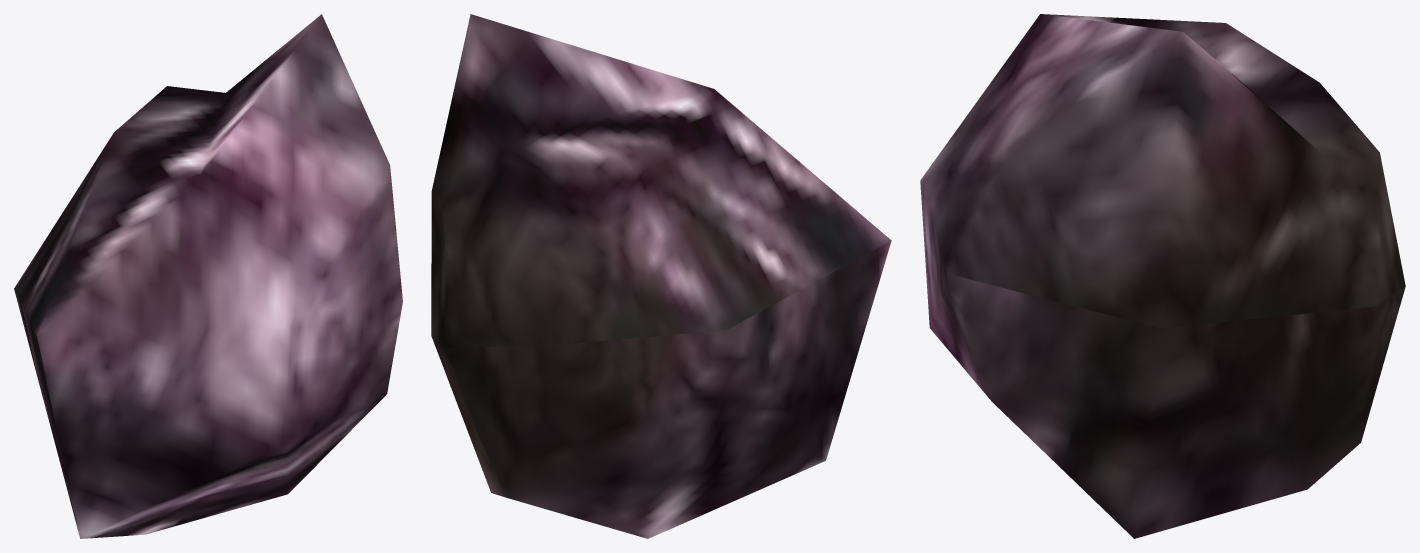
Rendered from condra_7_shoulder_right.glb.
3 views of the same model, side by side, from view 1: azimuth 30°, elevation 25°; view 2: azimuth 150°, elevation 25°; view 3: azimuth 270°, elevation 25° (orthographic). The views are drawn at different scales.
Visible parts, largest first — view 1: model_condra_7_shoulder_right; view 2: model_condra_7_shoulder_right; view 3: model_condra_7_shoulder_right.
Part boxes in pixels (x1,y1,x2,y2): model_condra_7_shoulder_right: [14, 14, 402, 538]; model_condra_7_shoulder_right: [431, 14, 891, 538]; model_condra_7_shoulder_right: [920, 14, 1405, 538].
Bounding box in the file's own units: 0.4282 × 0.5045 × 0.3897.
1 material, 1 textured.
